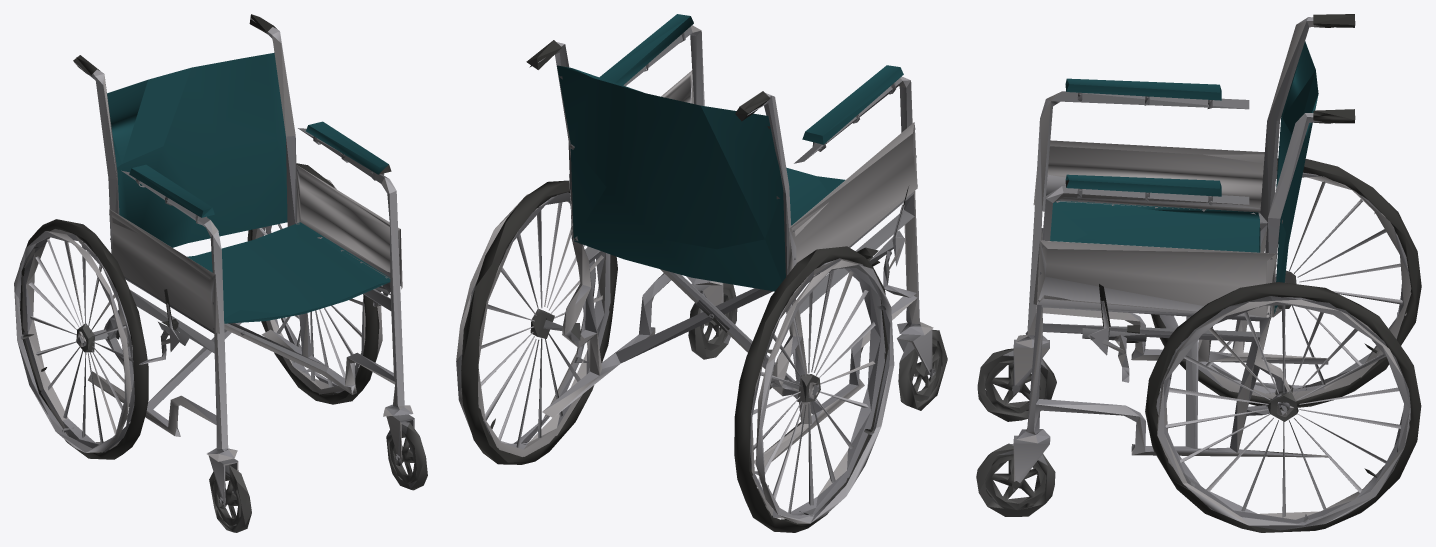
File: wheelchair.glb
3 renders of one model, left to right at view 1: azimuth 30°, elevation 25°; view 2: azimuth 150°, elevation 25°; view 3: azimuth 270°, elevation 25°, orthographic. The views are drawn at different scales.
Parts seen in each view (by area): view 1: wheelchair; view 2: wheelchair; view 3: wheelchair.
Boxes of the visible parts, <box> form: wheelchair: <box>14,14,427,532</box>; wheelchair: <box>456,14,947,532</box>; wheelchair: <box>976,14,1421,532</box>.
Size of the model in its own units: 0.8239 by 1.1 by 1.09.
